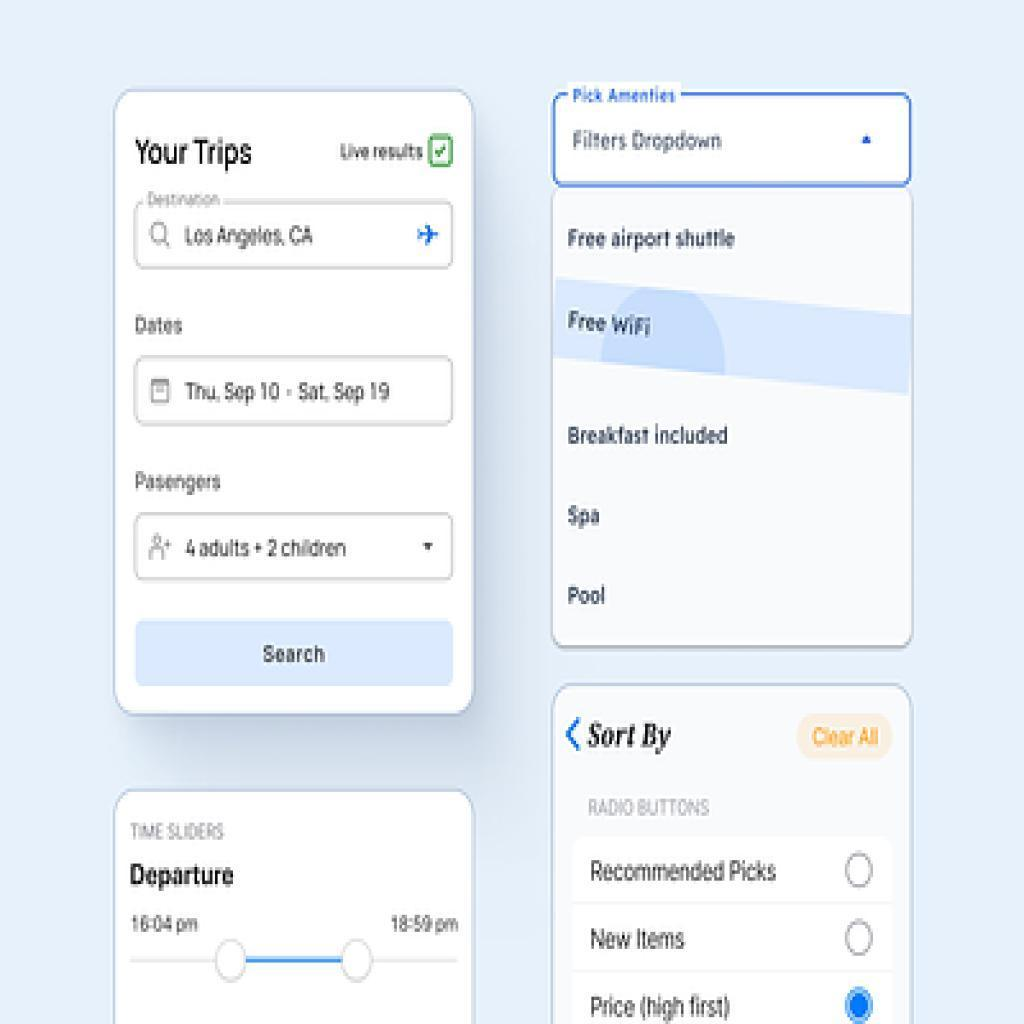button: (135, 621, 452, 689)
checkbox: (430, 136, 455, 170)
dropdown: (556, 94, 914, 187), (136, 514, 453, 580)
icon: (147, 217, 181, 257), (409, 214, 446, 249), (148, 374, 179, 412)
input: (136, 357, 452, 426), (134, 204, 453, 269)
label: (589, 855, 783, 889), (588, 992, 731, 1023), (585, 921, 694, 957)
radio: (842, 983, 879, 1024), (845, 915, 879, 958), (842, 850, 877, 890)
slider: (126, 939, 468, 981)
